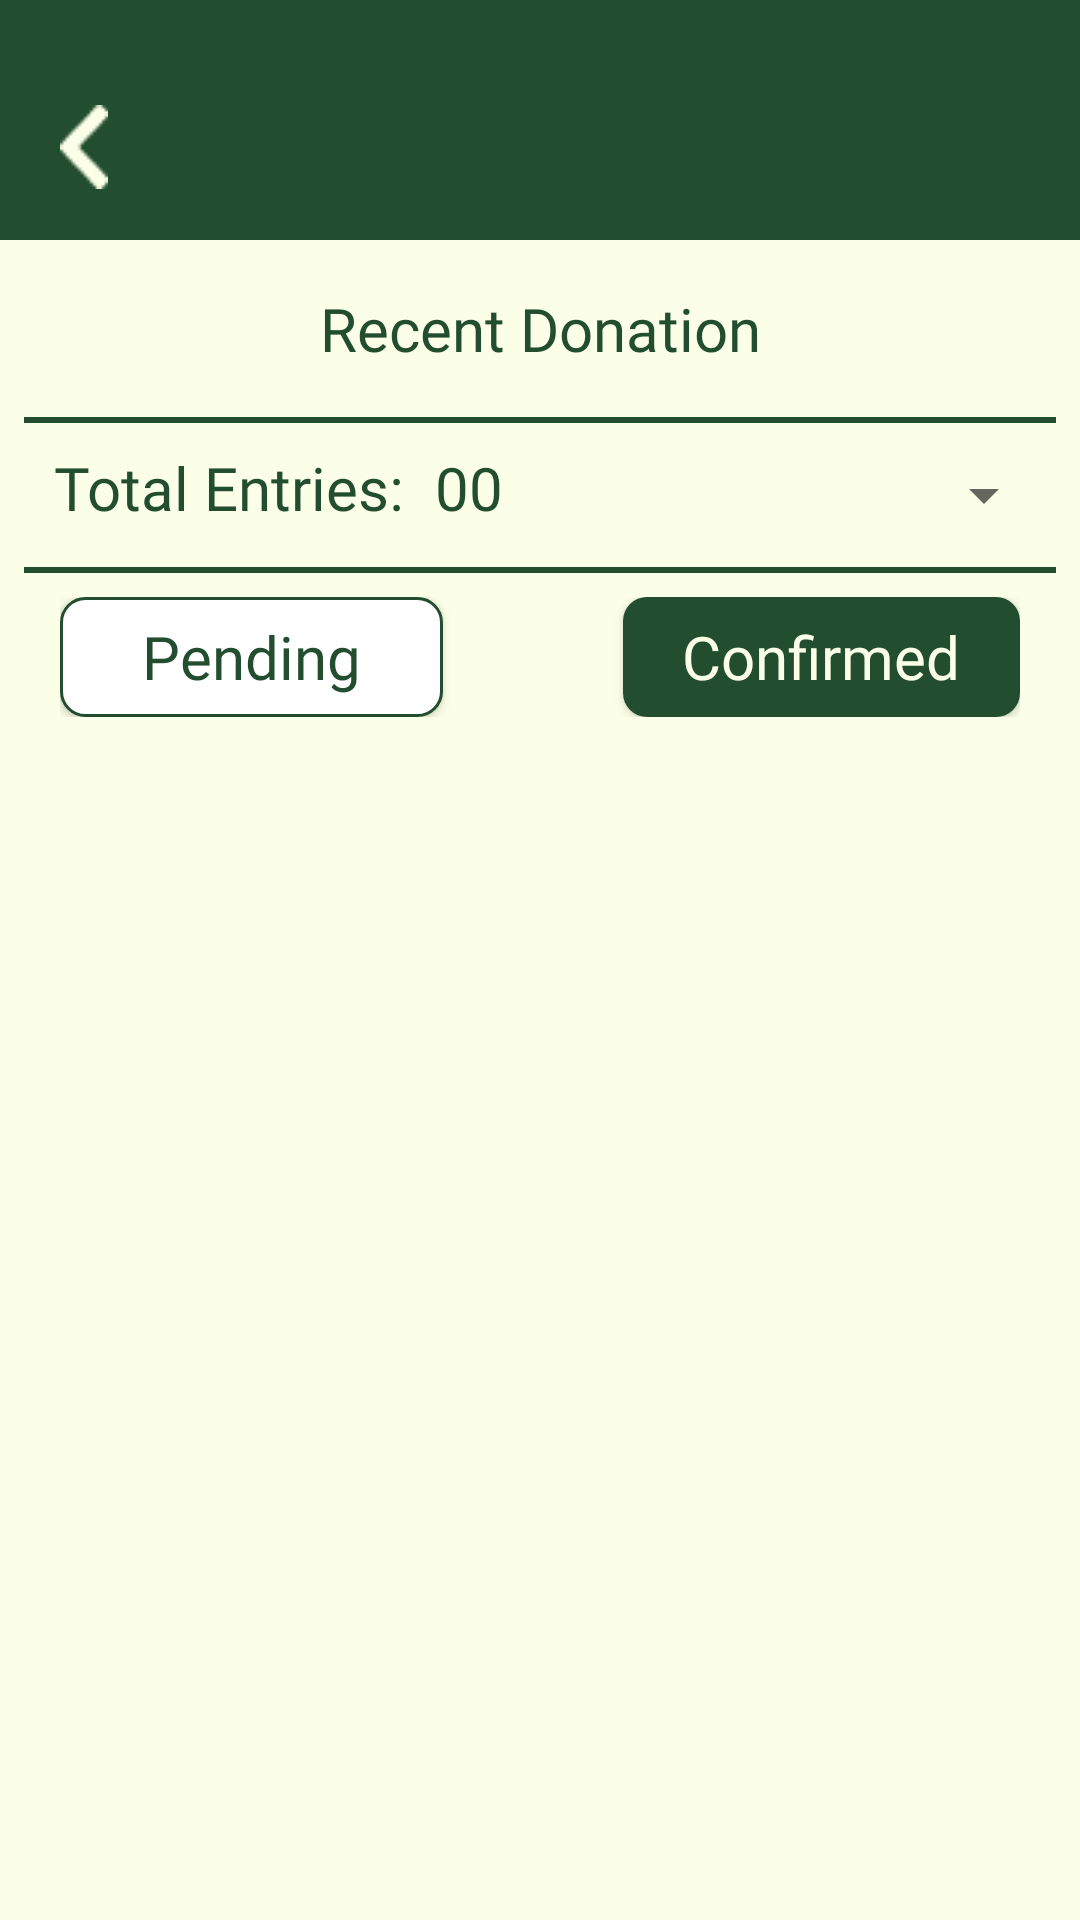

Where to tap for icons on this 1080×1920 app screen, as [x,y]:
arrow left pale: [84,147]
